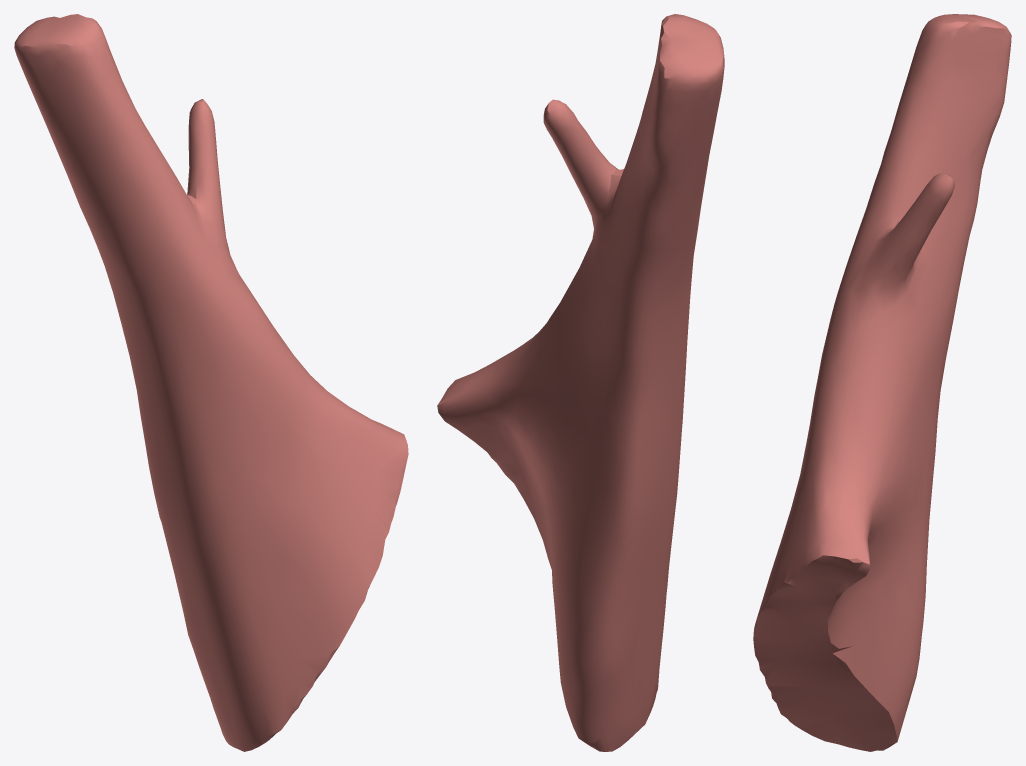
File: fma65194_mm1857m.glb
3 renders of one model, left to right at view 1: azimuth 30°, elevation 25°; view 2: azimuth 150°, elevation 25°; view 3: azimuth 270°, elevation 25°, orthographic. The views are drawn at different scales.
Visible parts, largest first — view 1: FMA65194_MM1857M; view 2: FMA65194_MM1857M; view 3: FMA65194_MM1857M.
Boxes of the visible parts, box(x1,y1,x2,y2) form: FMA65194_MM1857M: box(14, 14, 408, 751); FMA65194_MM1857M: box(437, 14, 724, 751); FMA65194_MM1857M: box(753, 14, 1011, 751).
Bounding box in the file's own units: 0.0424 × 0.0925 × 0.0316.
